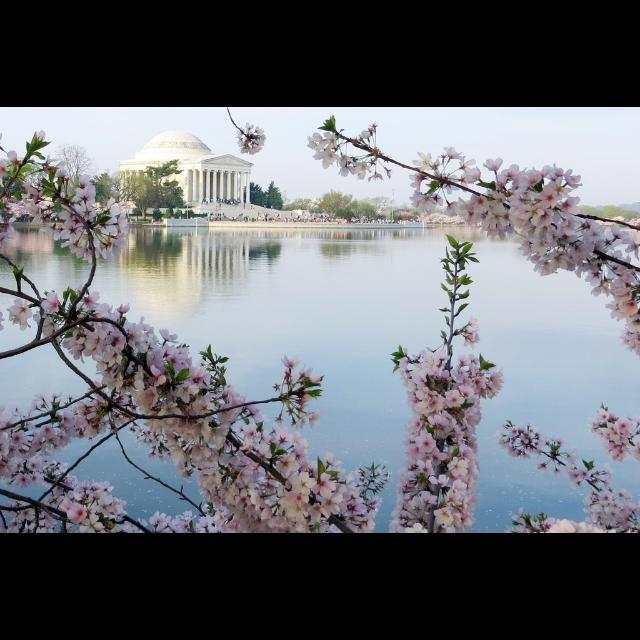Flower: (0, 126, 390, 534), (306, 114, 640, 356), (404, 228, 501, 530), (496, 422, 640, 530), (590, 404, 640, 466), (510, 513, 610, 533), (236, 119, 266, 155)
